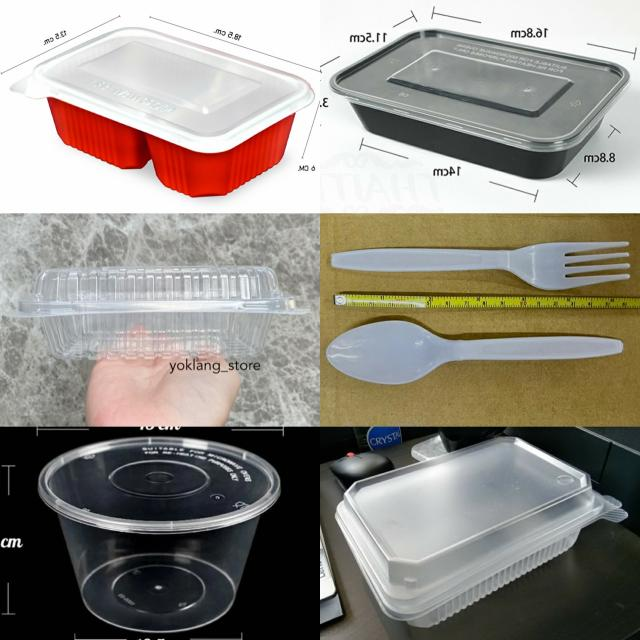Single-Use-Plastic: (335, 438, 625, 627), (11, 28, 314, 198), (38, 436, 280, 632), (329, 30, 629, 178), (10, 266, 305, 359), (327, 320, 623, 385), (332, 241, 630, 289)
